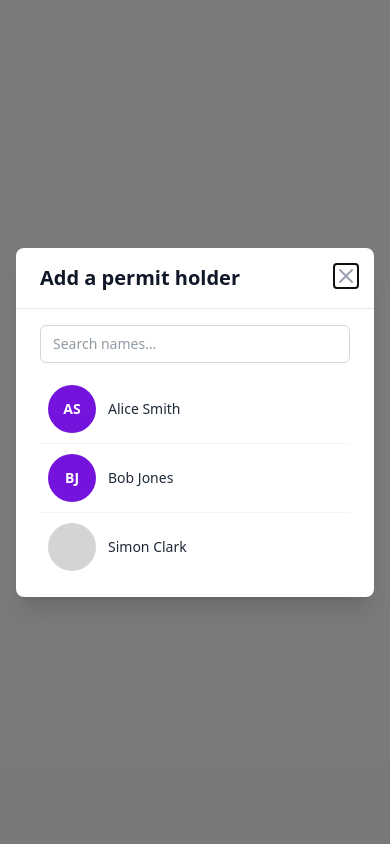
AddPermitHolderModal › shows an empty state when no members match
In the search field named "Search members": (195, 344) [40, 324, 350, 362], type "zzz"
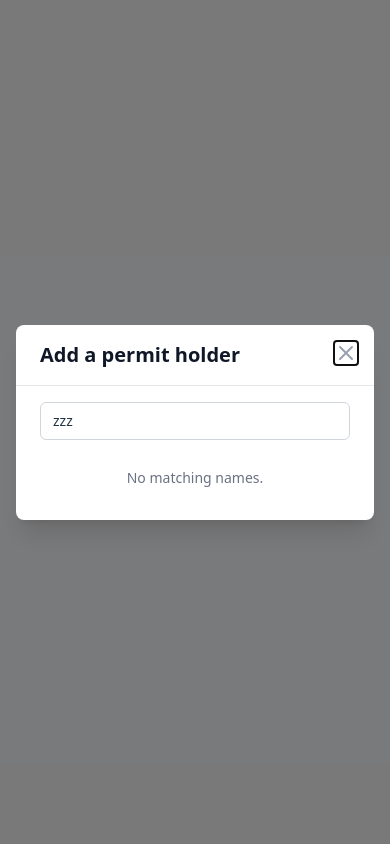
Expected: the list item "No matching names." is shown, [127, 468, 263, 486]
